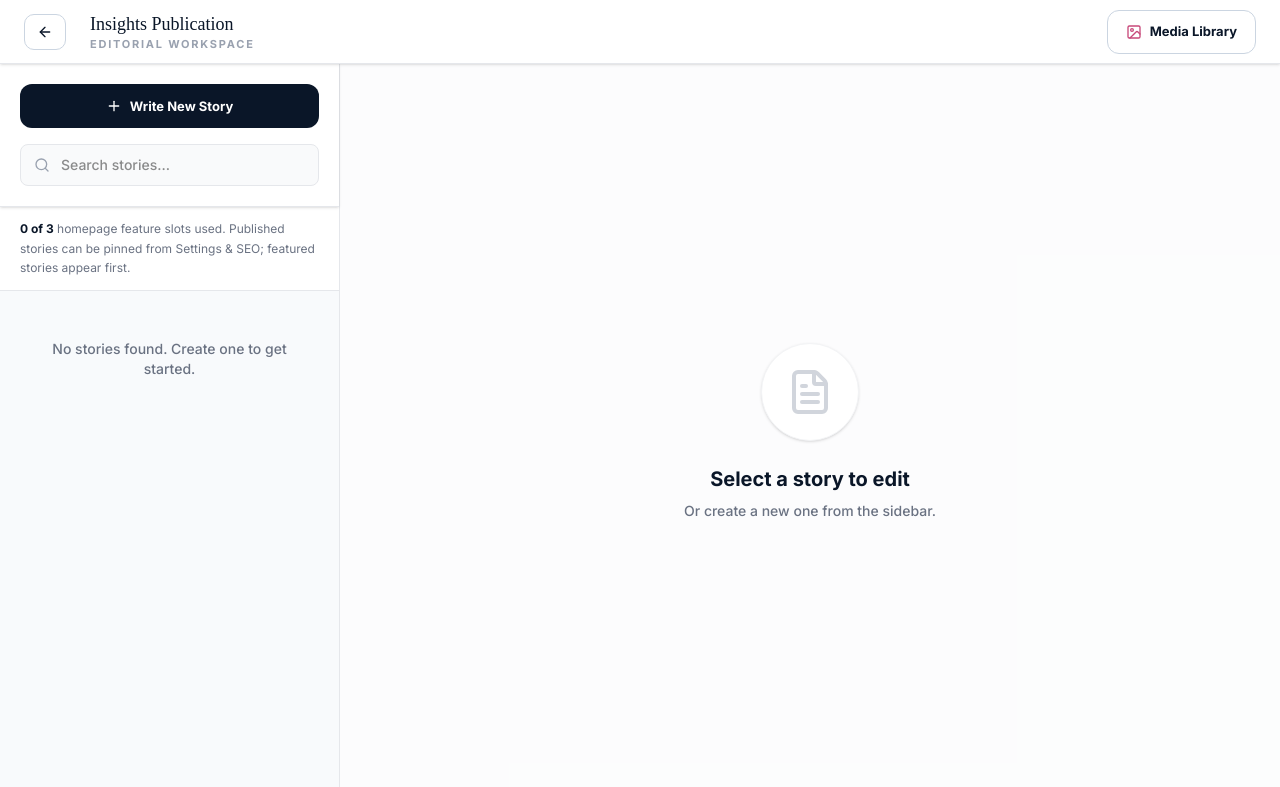
Insights CMS story templates › shows the homepage feature control in Settings & SEO
The image size is (1280, 787).
Click the button "Write New Story" at (170, 106), box [20,84,319,128]
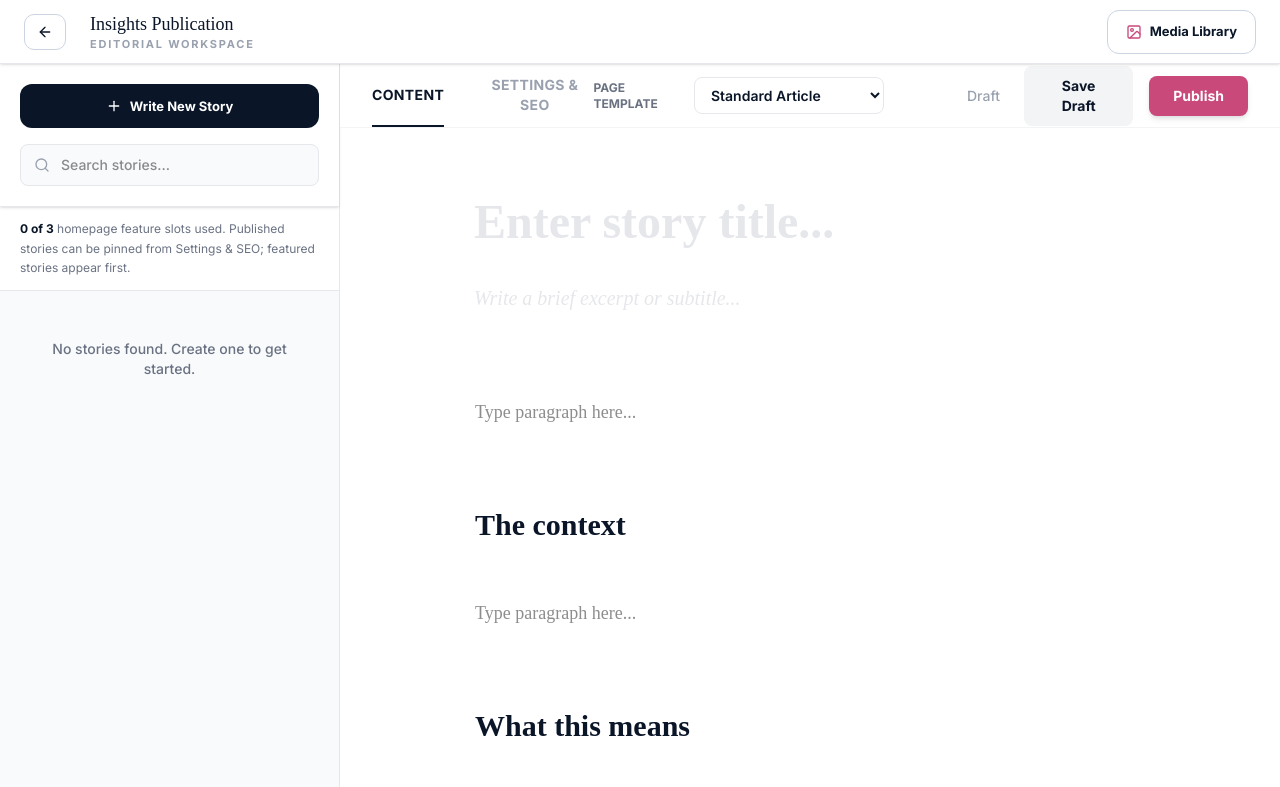
Click the button "SETTINGS & SEO" at (535, 96), box [476,64,594,127]
(page scrolled)
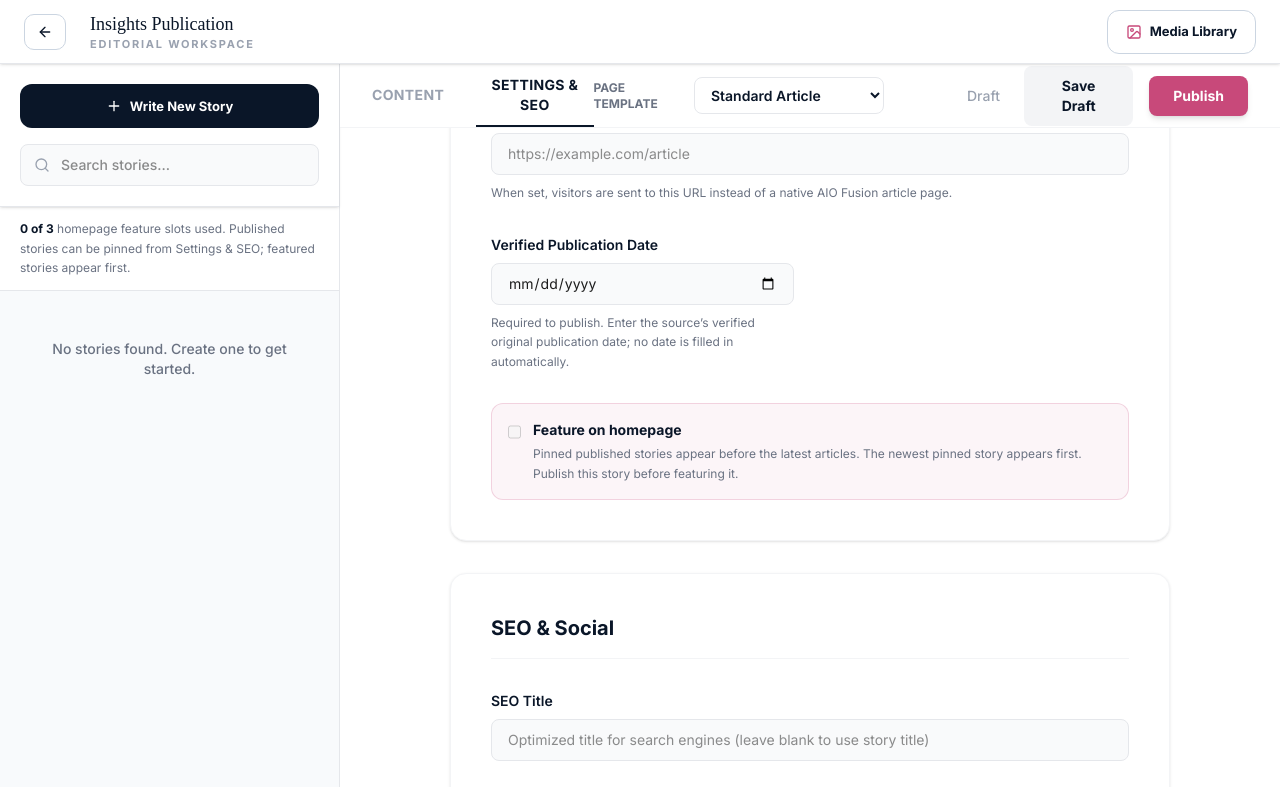
Result: the checkbox labelled "Feature on homepage" is disabled at [508,424,521,440]
Result: the text "publish this story before featuring it" is shown at [533,466,738,480]
